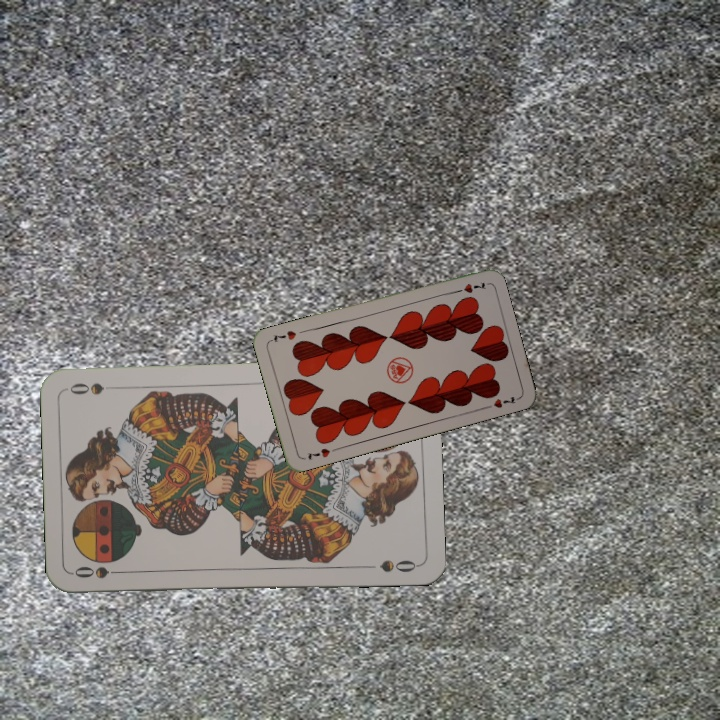H7: (303, 444, 340, 463), (449, 278, 488, 296)
SO: (70, 562, 130, 581)
